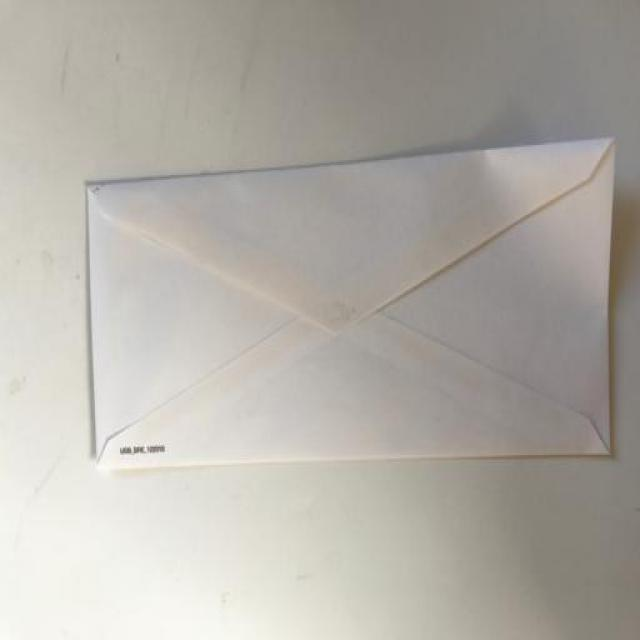paper: (75, 129, 640, 505)
